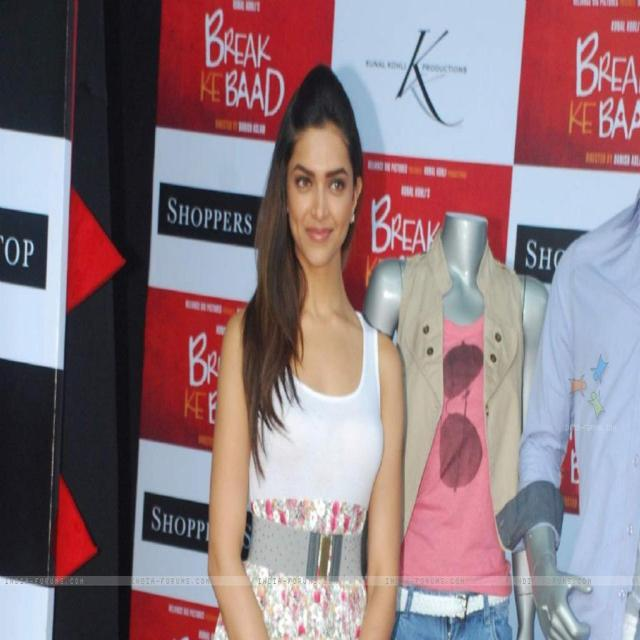Face: (278, 103, 362, 276)
